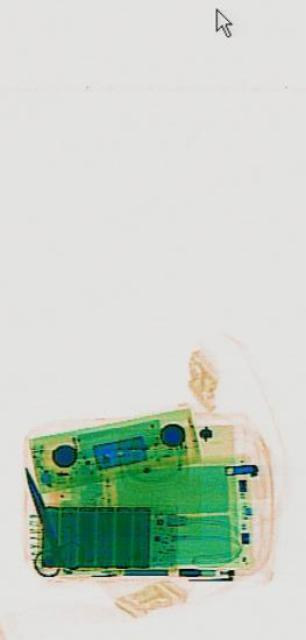Scissors: (5, 441, 82, 605)
